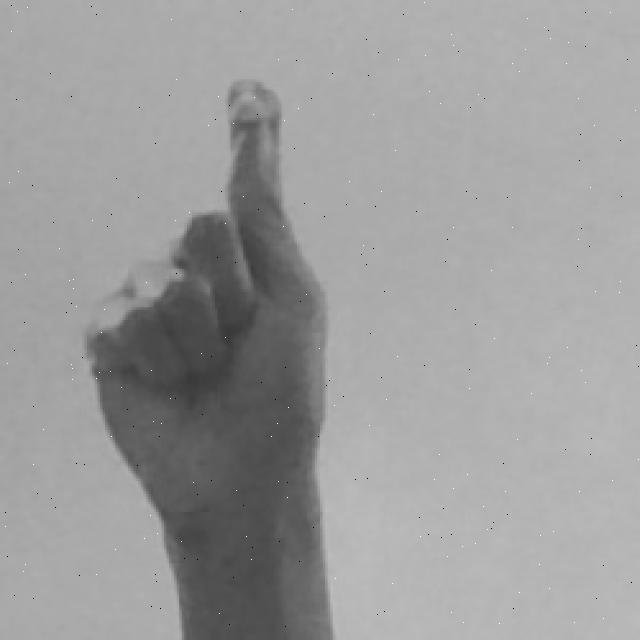T: (78, 73, 344, 640)
